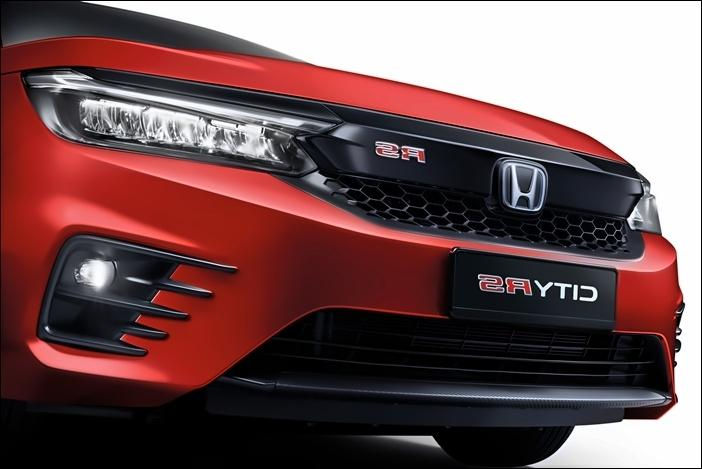Car hood: (0, 31, 640, 165)
Front bumper: (0, 154, 697, 430)
Headlight - -L-: (612, 166, 670, 237)
Headlight - -R-: (16, 60, 342, 179)
